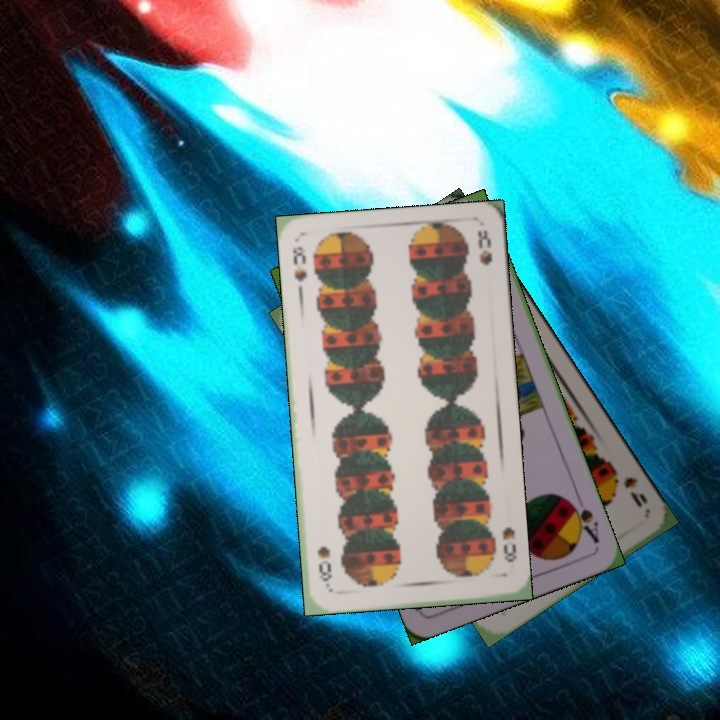S8: (288, 242, 310, 285), (498, 523, 519, 565)
S9: (607, 463, 651, 510)
SA: (563, 495, 602, 546)
